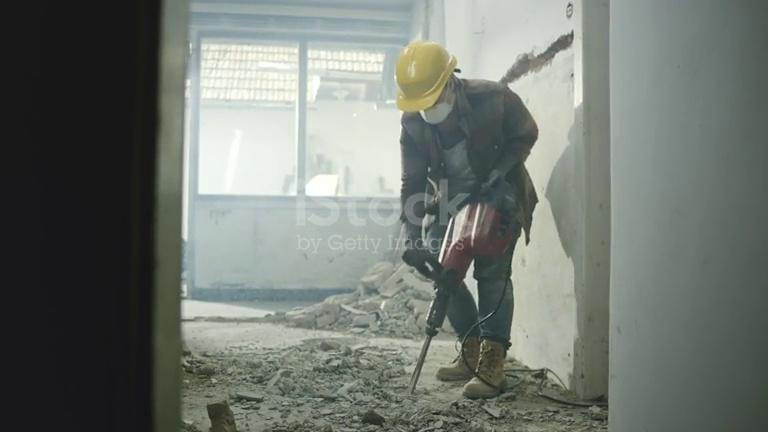helmet: (394, 41, 457, 112)
mask: (417, 85, 457, 124)
person: (394, 40, 540, 400)
